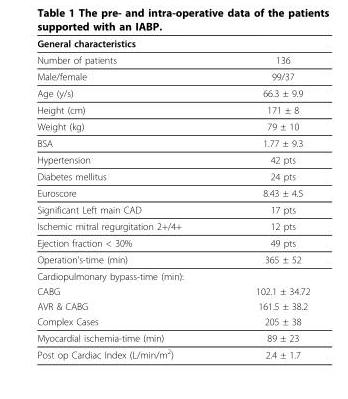table: (36, 37, 309, 359)
table column: (36, 37, 218, 359), (218, 37, 309, 359)
table column header: (36, 37, 309, 51)
table projected row header: (36, 267, 309, 283)
table row: (36, 67, 309, 84), (36, 84, 309, 101), (36, 117, 309, 134), (36, 134, 309, 151), (36, 167, 309, 184), (36, 184, 309, 201), (36, 217, 309, 234), (36, 250, 309, 267), (36, 51, 309, 67), (36, 101, 309, 117), (36, 151, 309, 167), (36, 201, 309, 217), (36, 234, 309, 250), (36, 267, 309, 283), (36, 313, 309, 329), (36, 329, 309, 345), (36, 283, 309, 298), (36, 298, 309, 313), (36, 37, 309, 51), (36, 345, 309, 359)
